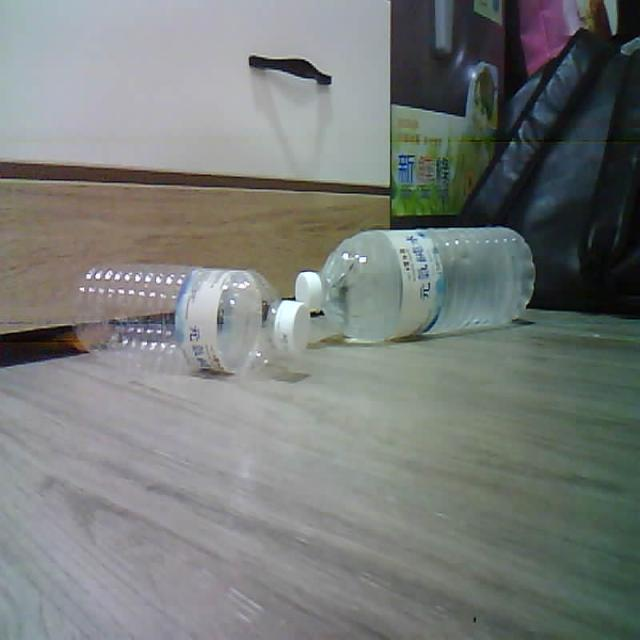bottle: (296, 227, 535, 342), (74, 261, 309, 373)
